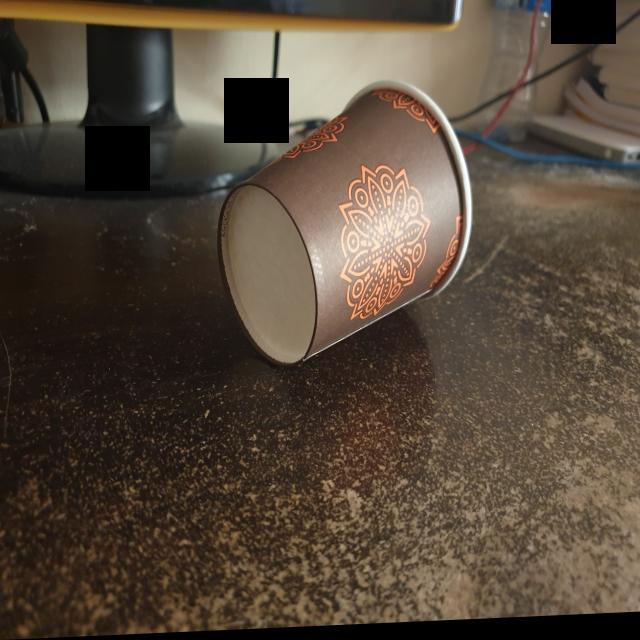cups: (205, 69, 479, 383)
